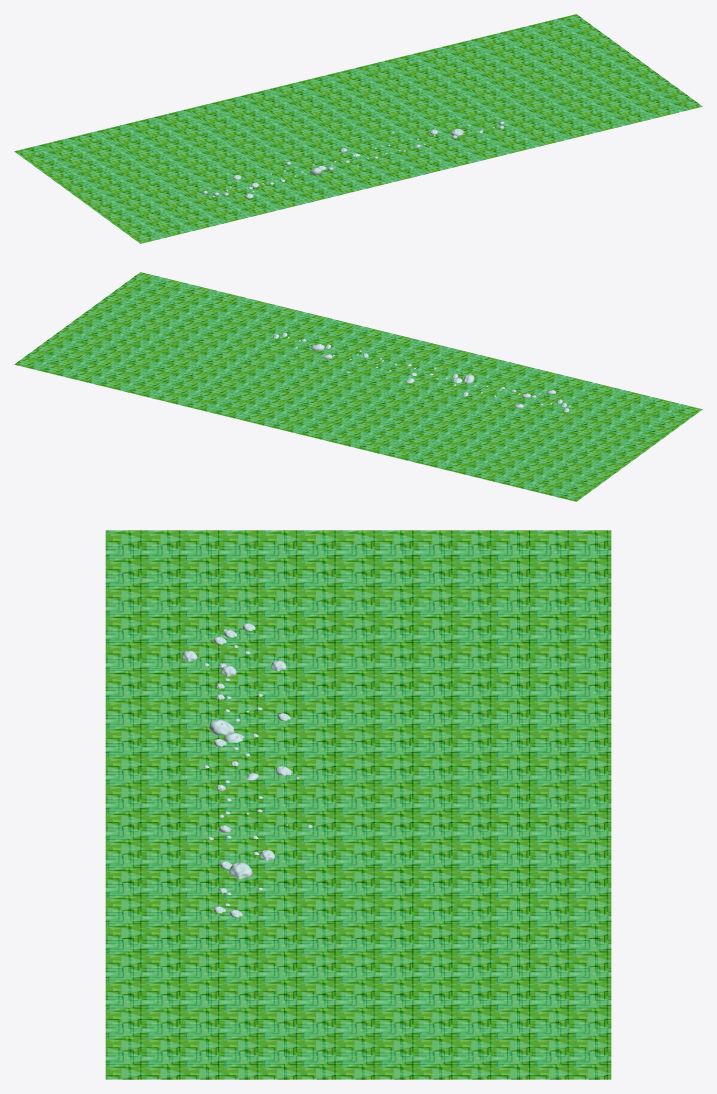
The model's file is new_Grounds_2.dae.
3 views of the same model, one above another, from view 1: azimuth 30°, elevation 25°; view 2: azimuth 150°, elevation 25°; view 3: azimuth 270°, elevation 25° (orthographic). The views are drawn at different scales.
Parts seen in each view (by area): view 1: Ground; view 2: Ground; view 3: Ground.
Part boxes in pixels (x1,y1,x2,y2): Ground: (14,14,702,243); Ground: (14,272,702,501); Ground: (105,530,611,1079).
Bounding box in the file's own units: 465 × 9.1 × 181.
